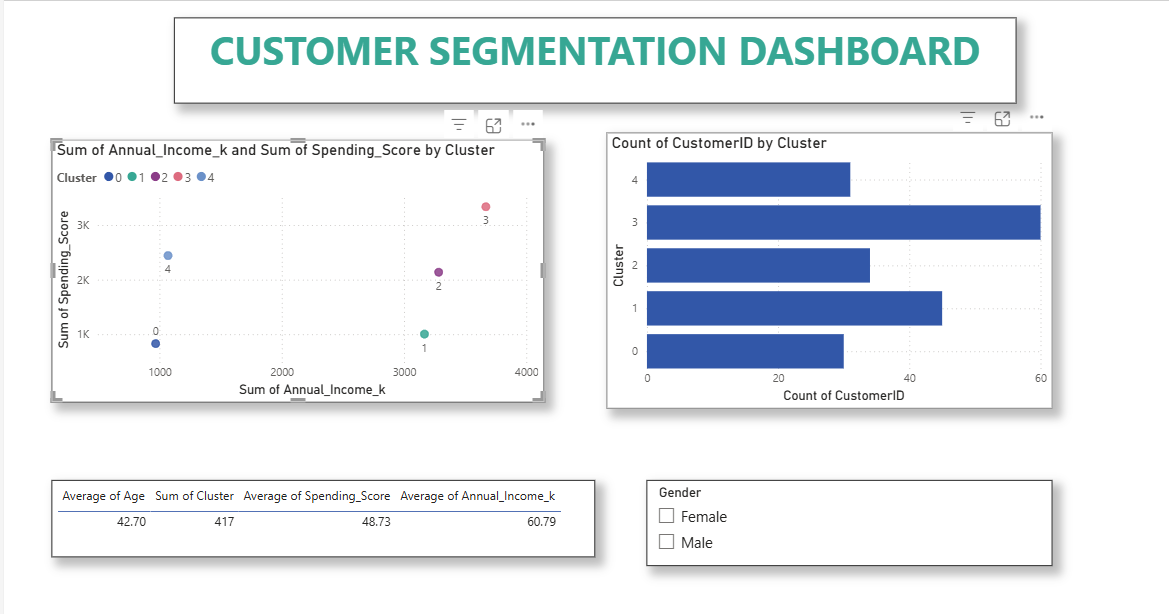

The page's visual inventory and layout, read from the dashboard file:
{"tool":"powerbi","page":{"name":"Page 1","canvas":[1280,720],"ordinal":0},"visuals":[{"type":"scatterChart","fields":{"X":["Sum(customers_segmented.Annual_Income_k)"],"Y":["Sum(customers_segmented.Spending_Score)"],"Series":["customers_segmented.Cluster"]},"box":[52.1,197.6,540.7,288.2],"z":0},{"type":"clusteredBarChart","fields":{"Category":["customers_segmented.Cluster"],"Y":["CountNonNull(customers_segmented.CustomerID)"]},"box":[661.4,189.4,489.9,303.3],"z":1000},{"type":"tableEx","fields":{"Values":["Avg(customers_segmented.Age)","Sum(customers_segmented.Cluster)","Avg(customers_segmented.Spending_Score)","Avg(customers_segmented.Annual_Income_k)"]},"box":[52.1,570.8,596.9,85.1],"z":2000},{"type":"slicer","fields":{"Values":["customers_segmented.Gender"]},"box":[705.3,570.8,446,94.7],"z":3000},{"type":"textbox","box":[186.6,63.1,924.9,94.7],"z":4000}]}

Visuals, with their boxes in screenshot pixels (x1, y1, x2, y2):
scatterChart - Sum(customers_segmented.Annual_Income_k) x Sum(customers_segmented.Spending_Score): locate(53, 139, 543, 400)
clusteredBarChart - customers_segmented.Cluster x CountNonNull(customers_segmented.CustomerID): locate(605, 132, 1048, 406)
tableEx - Avg(customers_segmented.Age) x Sum(customers_segmented.Cluster): locate(53, 477, 594, 554)
slicer - customers_segmented.Gender: locate(645, 477, 1048, 563)
textbox: locate(175, 18, 1012, 103)
